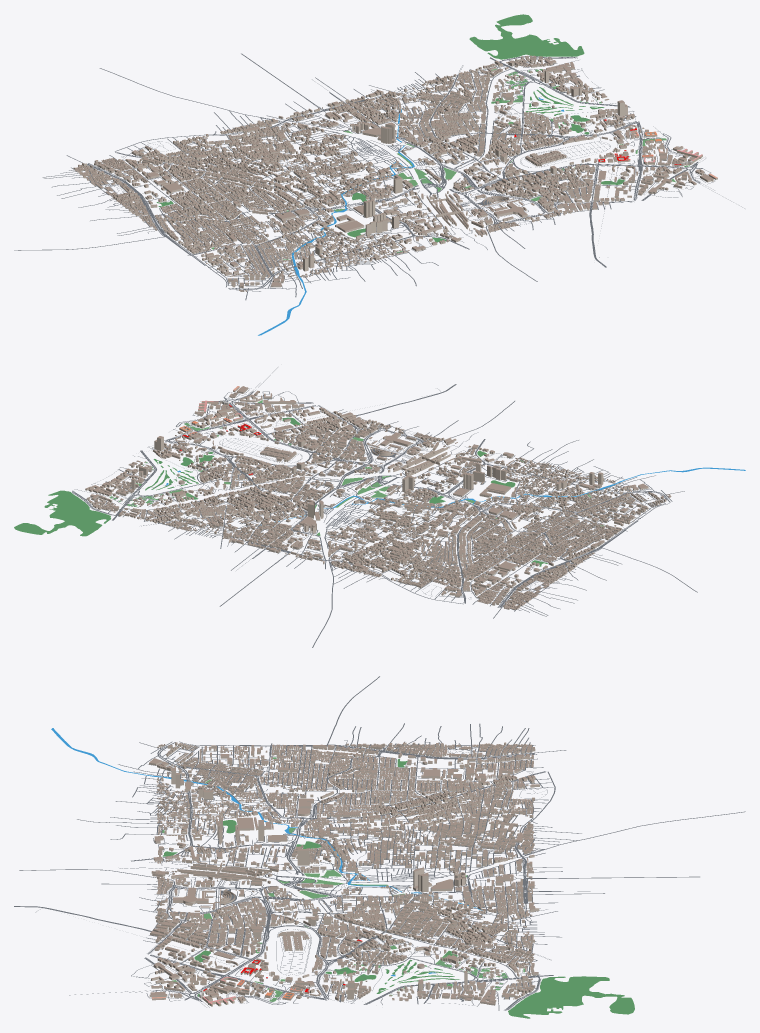
Rendered from modular_city_environment.glb.
3 renders of one model, top to bottom at view 1: azimuth 30°, elevation 25°; view 2: azimuth 150°, elevation 25°; view 3: azimuth 270°, elevation 25°, orthographic. The views are drawn at different scales.
Parts seen in each view (by area): view 1: map_4.osm_buildings, map_4.osm_roads_residential, map_4.osm_forest, map_4.osm_roads_primary, map_4.osm_roads_tertiary, map_4.osm_roads_service, map_4.osm_roads_secondary, map_4.osm_paths_footway, map_4.osm_vegetation, map_4.osm_water; view 2: map_4.osm_buildings, map_4.osm_roads_residential, map_4.osm_forest, map_4.osm_roads_primary, map_4.osm_roads_service, map_4.osm_roads_tertiary, map_4.osm_roads_secondary, map_4.osm_paths_footway, map_4.osm_vegetation, map_4.osm_water; view 3: map_4.osm_buildings, map_4.osm_roads_residential, map_4.osm_forest, map_4.osm_roads_primary, map_4.osm_roads_tertiary, map_4.osm_roads_service, map_4.osm_roads_secondary, map_4.osm_paths_footway, map_4.osm_vegetation, map_4.osm_water.
Part boxes in pixels (left/top/right/bottom): map_4.osm_buildings: left=73, top=55, right=717, bottom=291; map_4.osm_roads_residential: left=42, top=57, right=682, bottom=300; map_4.osm_forest: left=156, top=14, right=689, bottom=242; map_4.osm_roads_primary: left=87, top=53, right=699, bottom=289; map_4.osm_roads_tertiary: left=51, top=56, right=690, bottom=297; map_4.osm_roads_service: left=131, top=57, right=714, bottom=287; map_4.osm_roads_secondary: left=14, top=68, right=642, bottom=281; map_4.osm_paths_footway: left=111, top=56, right=744, bottom=275; map_4.osm_vegetation: left=211, top=68, right=676, bottom=260; map_4.osm_water: left=258, top=97, right=564, bottom=335; map_4.osm_buildings: left=85, top=386, right=671, bottom=609; map_4.osm_roads_residential: left=75, top=409, right=684, bottom=616; map_4.osm_forest: left=14, top=417, right=547, bottom=566; map_4.osm_roads_primary: left=112, top=391, right=670, bottom=607; map_4.osm_roads_service: left=74, top=388, right=649, bottom=595; map_4.osm_roads_tertiary: left=72, top=384, right=669, bottom=618; map_4.osm_roads_secondary: left=164, top=401, right=697, bottom=647; map_4.osm_paths_footway: left=72, top=367, right=619, bottom=599; map_4.osm_vegetation: left=109, top=400, right=603, bottom=535; map_4.osm_water: left=165, top=467, right=745, bottom=525; map_4.osm_buildings: left=149, top=742, right=539, bottom=1006; map_4.osm_roads_residential: left=77, top=723, right=604, bottom=1008; map_4.osm_forest: left=162, top=759, right=634, bottom=1018; map_4.osm_roads_primary: left=131, top=742, right=699, bottom=1004; map_4.osm_roads_tertiary: left=14, top=723, right=566, bottom=1010; map_4.osm_roads_service: left=119, top=740, right=547, bottom=1010; map_4.osm_roads_secondary: left=19, top=676, right=745, bottom=1000; map_4.osm_paths_footway: left=16, top=748, right=590, bottom=1010; map_4.osm_vegetation: left=162, top=757, right=524, bottom=1001; map_4.osm_water: left=51, top=728, right=482, bottom=976.
Bounding box in the file's own units: 5690 × 130 × 5140.
